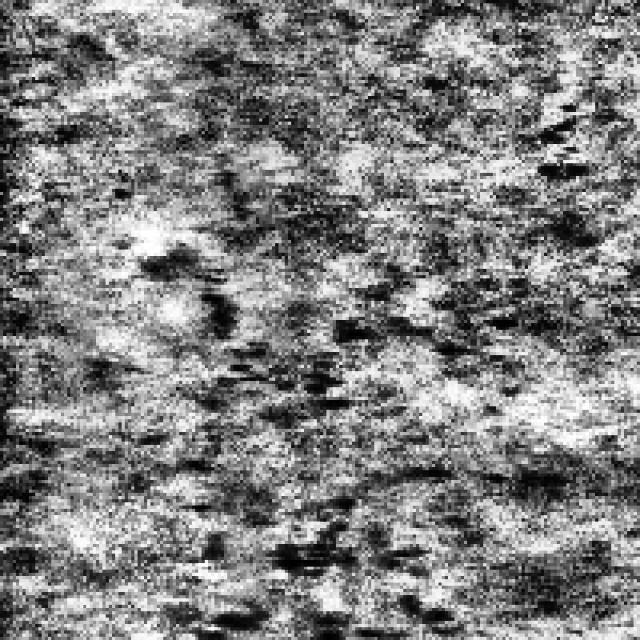Crazing: (180, 278, 454, 637), (522, 58, 592, 182)
